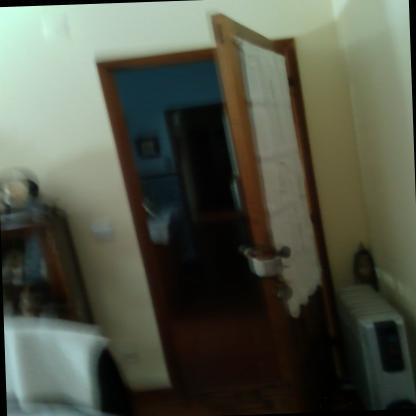semi: (89, 6, 336, 416)
